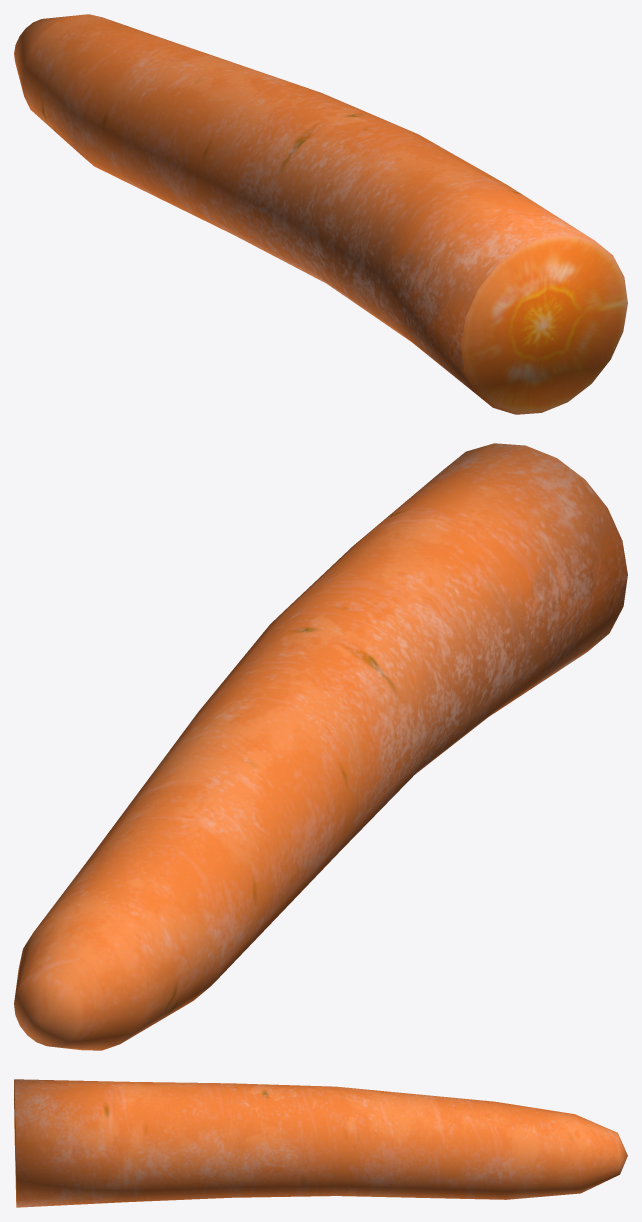
Rendered from Carrot2.fbx.
3 renders of one model, top to bottom at view 1: azimuth 30°, elevation 25°; view 2: azimuth 150°, elevation 25°; view 3: azimuth 270°, elevation 25°, orthographic. The views are drawn at different scales.
Visible parts, largest first — view 1: Carrot_Low.001; view 2: Carrot_Low.001; view 3: Carrot_Low.001.
Boxes of the visible parts, <box> form: Carrot_Low.001: <box>14,14,627,414</box>; Carrot_Low.001: <box>14,443,627,1050</box>; Carrot_Low.001: <box>14,1079,627,1207</box>.
Size of the model in its own units: 173 by 160 by 704.
1 material, 1 textured.
